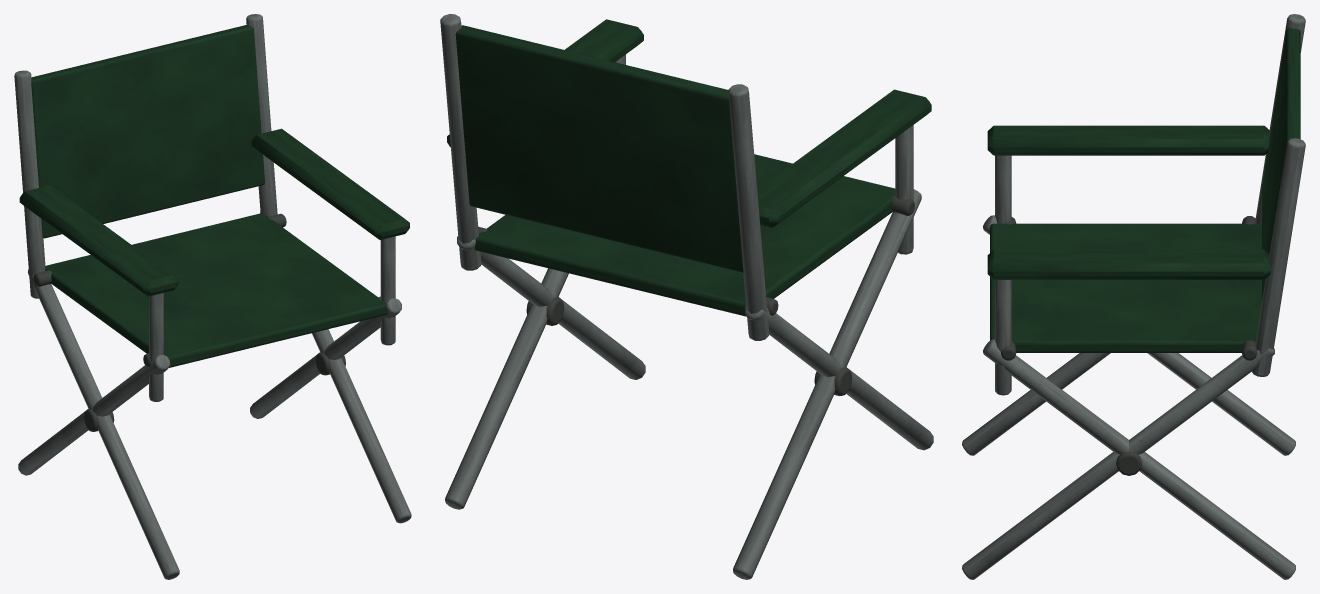
File: level_camp_folding_chair_refined.glb
3 renders of one model, left to right at view 1: azimuth 30°, elevation 25°; view 2: azimuth 150°, elevation 25°; view 3: azimuth 270°, elevation 25°, orthographic. The views are drawn at different scales.
Parts seen in each view (by area): view 1: level_camp_folding_chair_refined; view 2: level_camp_folding_chair_refined; view 3: level_camp_folding_chair_refined.
Part boxes in pixels (<box>): level_camp_folding_chair_refined: <box>14,14,411,579</box>; level_camp_folding_chair_refined: <box>440,14,933,579</box>; level_camp_folding_chair_refined: <box>962,14,1305,579</box>.
Size of the model in its own units: 0.645 by 0.9223 by 0.6554.
Materials: 3 (3 with a texture image).
